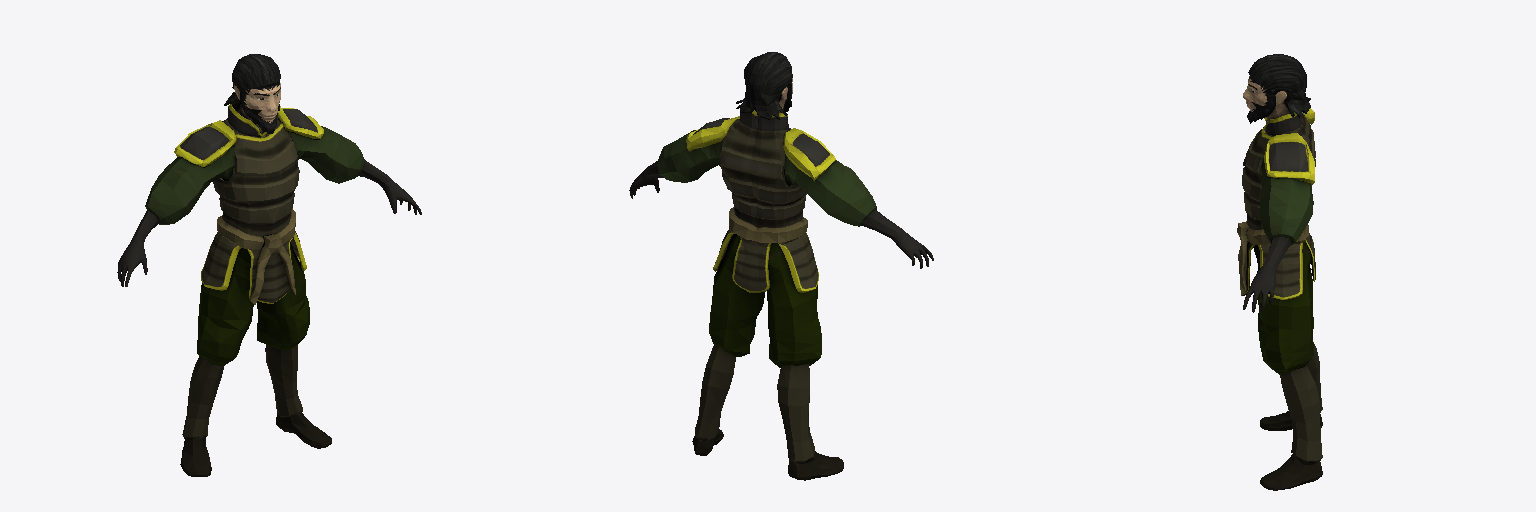
3 views of the same model, side by side, from view 1: azimuth 30°, elevation 25°; view 2: azimuth 150°, elevation 25°; view 3: azimuth 270°, elevation 25° (orthographic).
Visible parts, largest first — view 1: Kyoshi_Earth_Fighter_Male; view 2: Kyoshi_Earth_Fighter_Male; view 3: Kyoshi_Earth_Fighter_Male.
Part boxes in pixels (left/top/right/bottom): Kyoshi_Earth_Fighter_Male: left=117, top=54, right=421, bottom=476; Kyoshi_Earth_Fighter_Male: left=629, top=52, right=933, bottom=480; Kyoshi_Earth_Fighter_Male: left=1237, top=54, right=1322, bottom=490.
Size of the model in its own units: 4.7 by 6.07 by 1.18.
Materials: 1 (1 with a texture image).